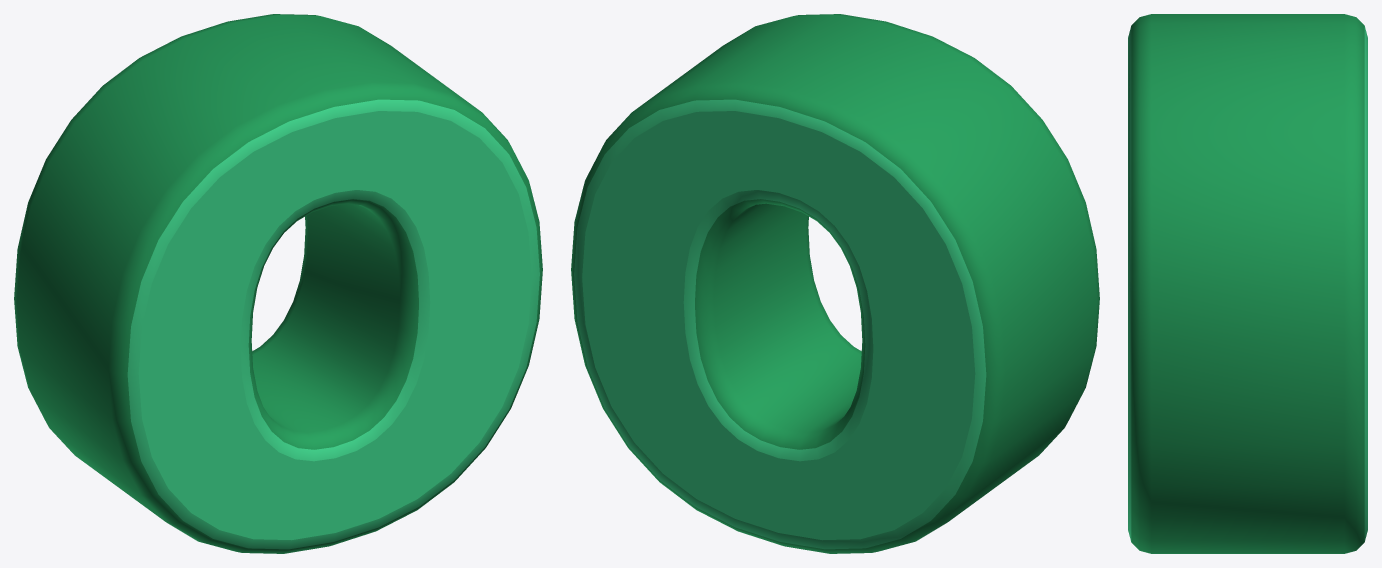
Rendered from letter_O_green.glb.
3 renders of one model, left to right at view 1: azimuth 30°, elevation 25°; view 2: azimuth 150°, elevation 25°; view 3: azimuth 270°, elevation 25°, orthographic. The views are drawn at different scales.
Visible parts, largest first — view 1: MOBP_letter_O_green; view 2: MOBP_letter_O_green; view 3: MOBP_letter_O_green.
Part boxes in pixels (x1,y1,x2,y2): MOBP_letter_O_green: (14,14,542,553); MOBP_letter_O_green: (571,14,1099,553); MOBP_letter_O_green: (1128,14,1367,553).
Bounding box in the file's own units: 0.0843 × 0.085 × 0.0384.
